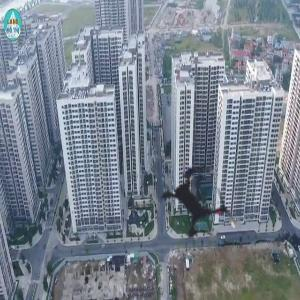drone: (132, 134, 269, 271)
